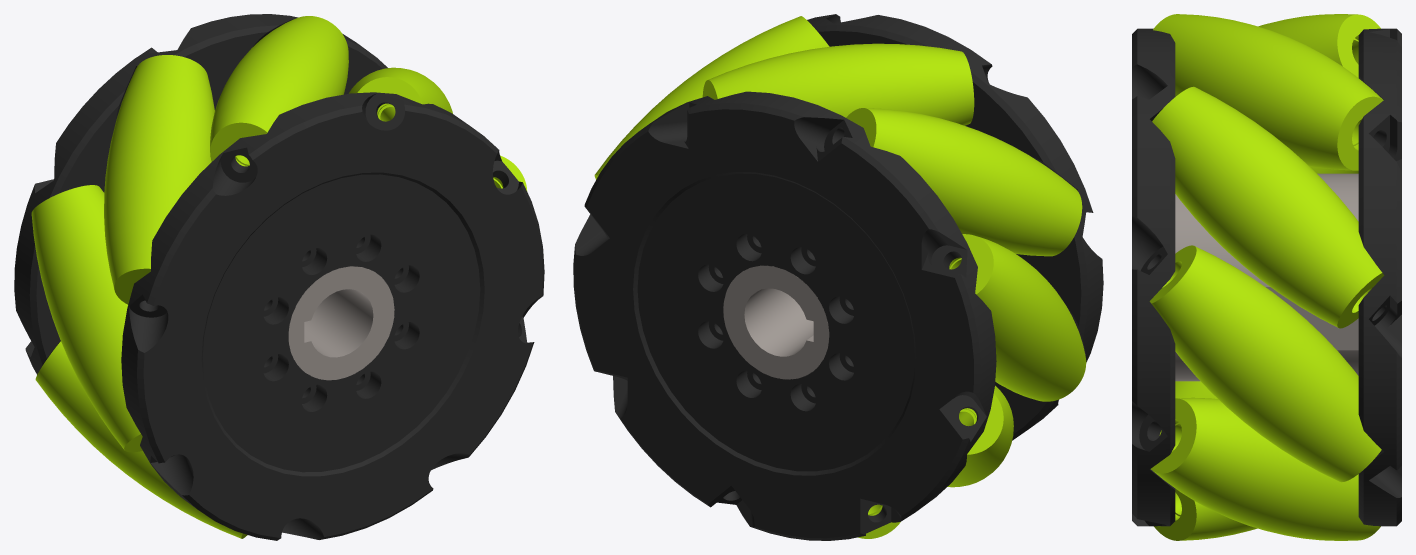
File: B-RBH-0037-A.fbx
3 views of the same model, side by side, from view 1: azimuth 30°, elevation 25°; view 2: azimuth 150°, elevation 25°; view 3: azimuth 270°, elevation 25° (orthographic). The views are drawn at different scales.
Visible parts, largest first — view 1: B-RBH-0037-A (×8); view 2: B-RBH-0037-A (×8); view 3: B-RBH-0037-A (×10).
Part boxes in pixels (<box>): B-RBH-0037-A (×8): <box>14,14,544,540</box>; B-RBH-0037-A (×8): <box>573,14,1103,540</box>; B-RBH-0037-A (×10): <box>1132,14,1401,540</box>.
Bounding box in the file's own units: 305 × 305 × 156.
